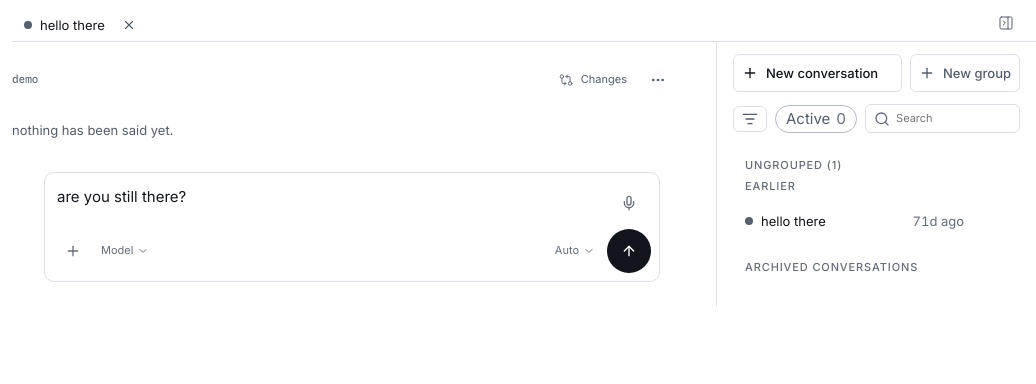
Chats - refusals the composer meets › renders the kill-switch refusal on a 423 and draws no kill switch of its own
This screenshot has width=1036, height=384.
Replace the text in the text box named "Message" with "hi": point(330, 196) [57, 180, 603, 212]
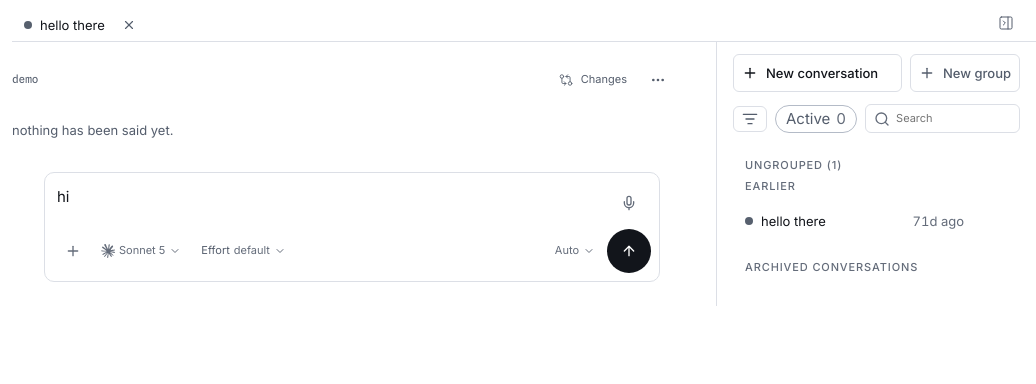
Click the button named "Send": point(629, 250) [607, 228, 651, 272]
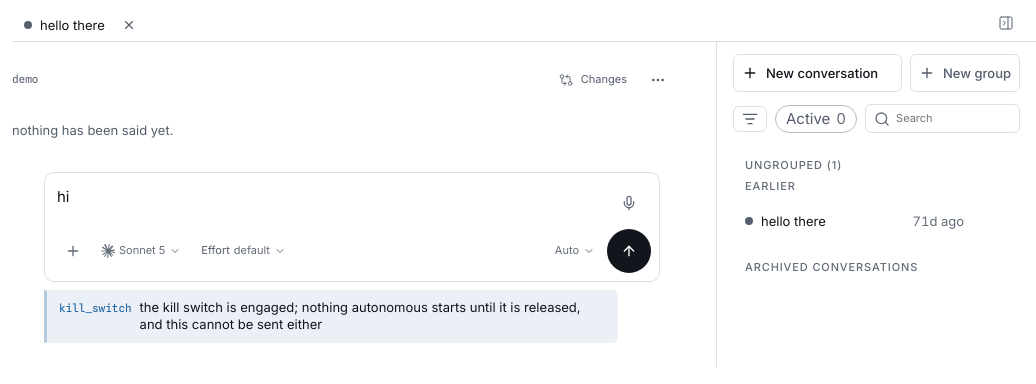
Result: the text "kill_switch" is shown at [59, 300, 132, 315]
